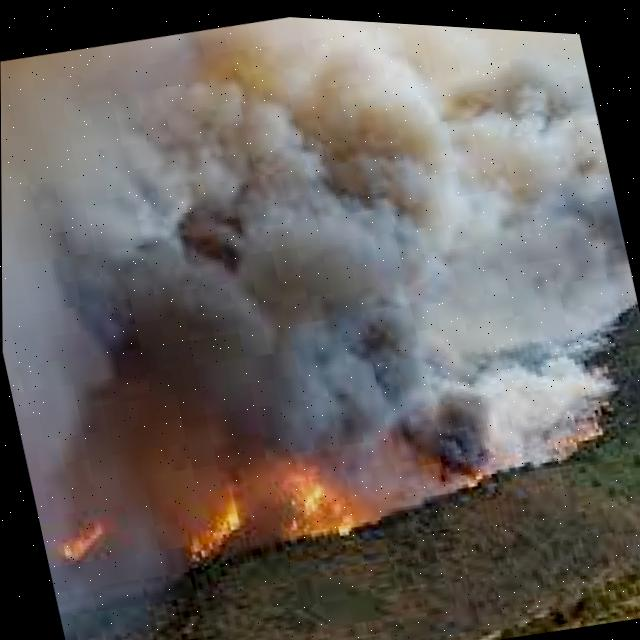smoke: (0, 13, 638, 564)
